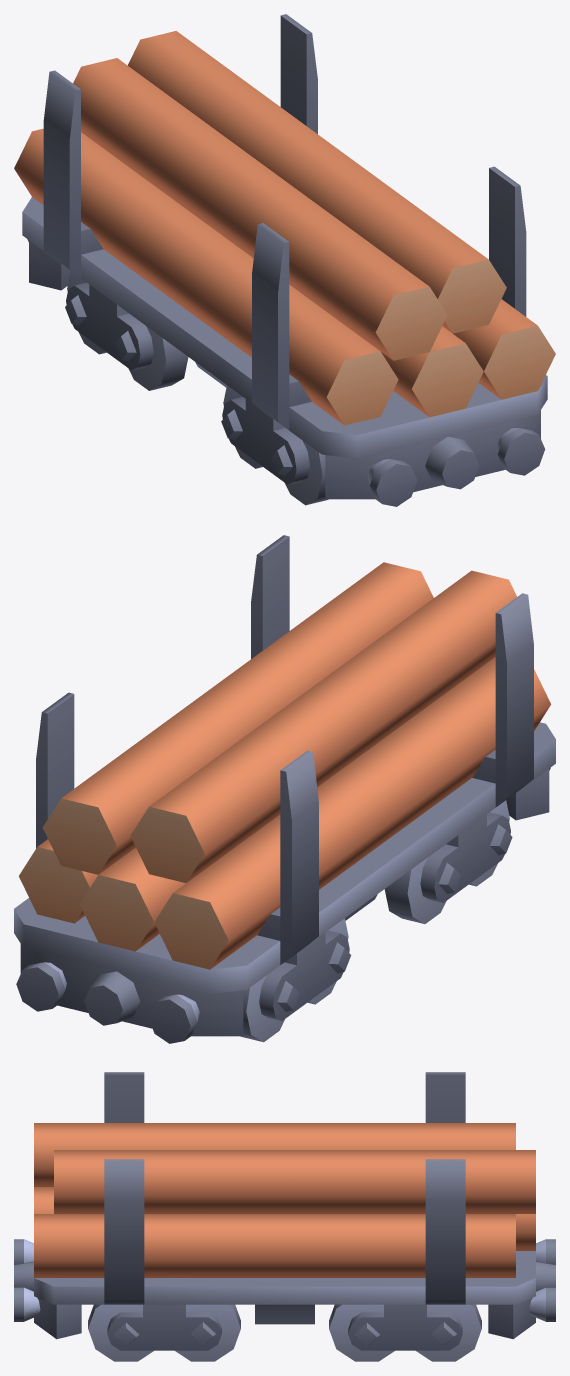
The model's file is kenney-train-train-carriage-lumber.glb.
3 views of the same model, one above another, from view 1: azimuth 30°, elevation 25°; view 2: azimuth 150°, elevation 25°; view 3: azimuth 270°, elevation 25° (orthographic). The views are drawn at different scales.
Parts seen in each view (by area): view 1: train-carriage-lumber; view 2: train-carriage-lumber; view 3: train-carriage-lumber.
Part boxes in pixels (x1,y1,x2,y2): train-carriage-lumber: (14,14,555,506); train-carriage-lumber: (14,535,555,1043); train-carriage-lumber: (14,1072,555,1361).
Bounding box in the file's own units: 1.1 × 1.16 × 2.7.
1 material, 1 textured.
